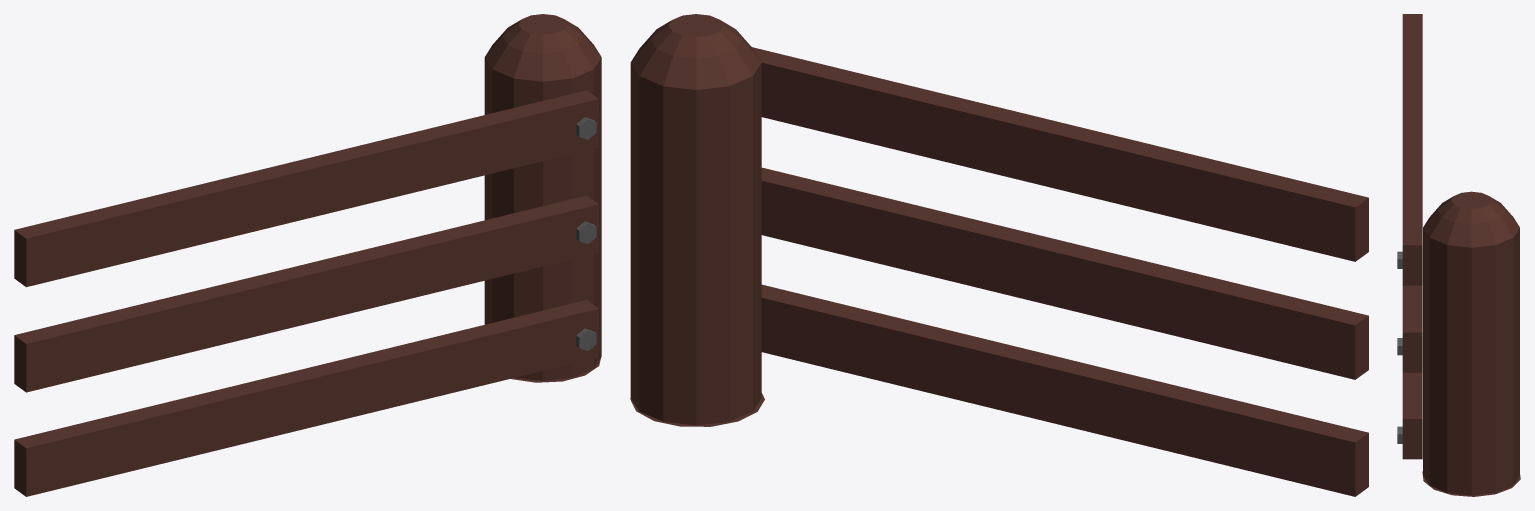
The model's file is fence_basic.fbx.
3 renders of one model, left to right at view 1: azimuth 30°, elevation 25°; view 2: azimuth 150°, elevation 25°; view 3: azimuth 270°, elevation 25°, orthographic. The views are drawn at different scales.
Parts seen in each view (by area): view 1: Cylinder; view 2: Cylinder; view 3: Cylinder.
Part boxes in pixels (bbox=[...]): Cylinder: bbox=[14, 14, 601, 496]; Cylinder: bbox=[630, 14, 1368, 496]; Cylinder: bbox=[1397, 14, 1520, 496].
Size of the model in its own units: 481 by 252 by 102.
